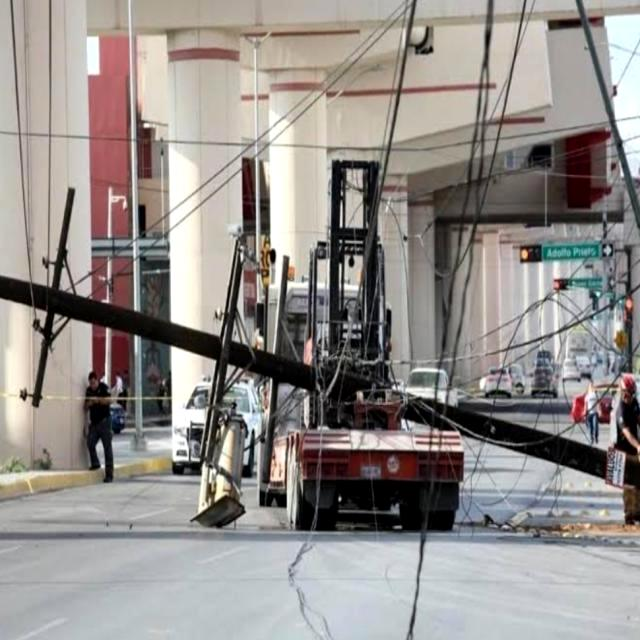Broken Pole: (2, 183, 635, 531)
